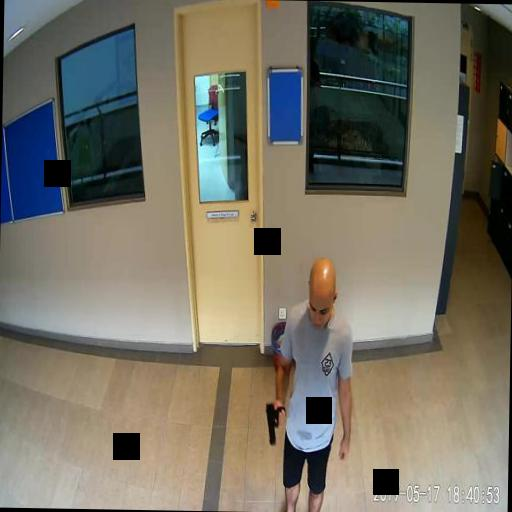Handgun: (264, 398, 284, 444)
